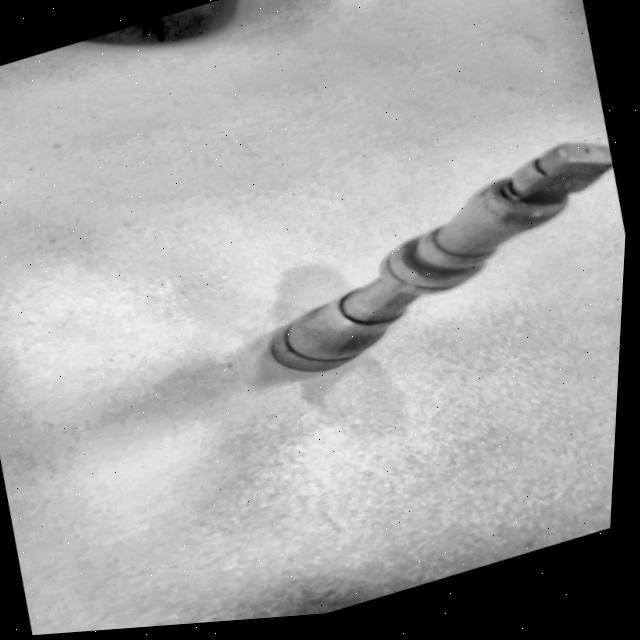white-king: (204, 100, 632, 428)
